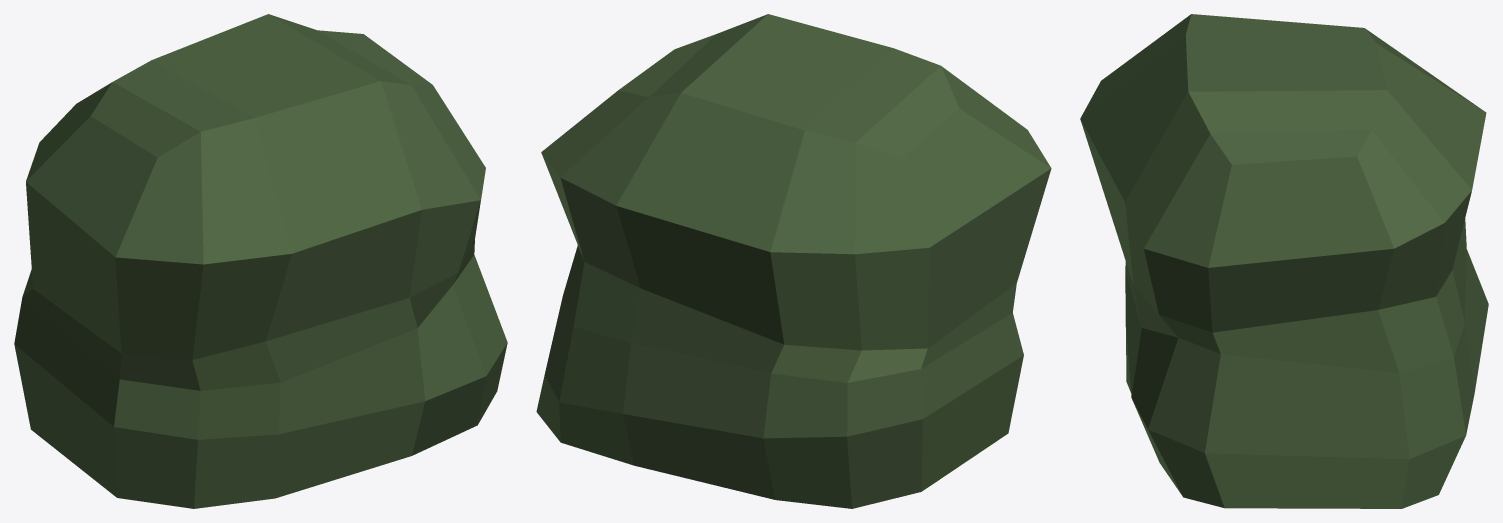
Rendered from BushBerries_2.gltf.
3 renders of one model, left to right at view 1: azimuth 30°, elevation 25°; view 2: azimuth 150°, elevation 25°; view 3: azimuth 270°, elevation 25°, orthographic. The views are drawn at different scales.
Visible parts, largest first — view 1: BushBerries_2; view 2: BushBerries_2; view 3: BushBerries_2.
Boxes of the visible parts, <box> form: BushBerries_2: <box>14,14,507,508</box>; BushBerries_2: <box>536,14,1051,508</box>; BushBerries_2: <box>1080,14,1488,508</box>.
Bounding box in the file's own units: 0.5923 × 0.5056 × 0.5147.
